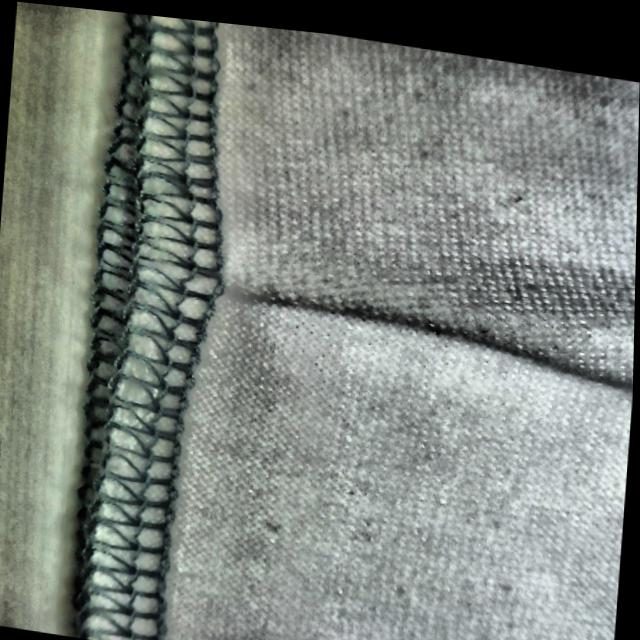seam: (129, 191, 449, 375)
